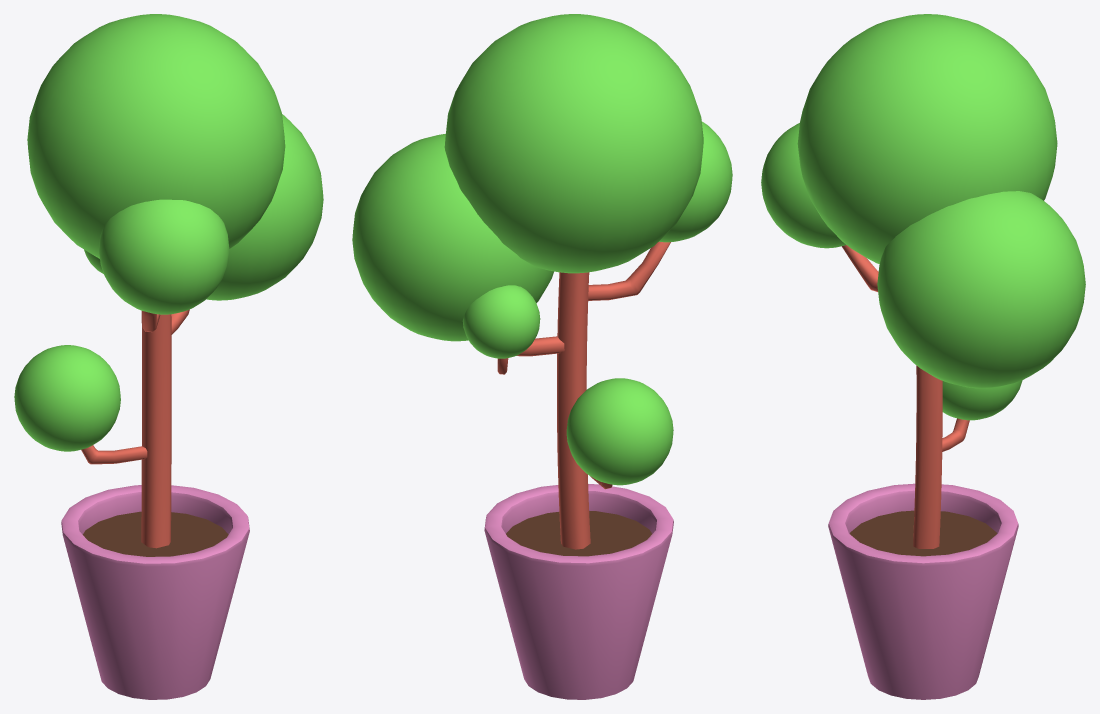
The model's file is Tree.fbx.
3 views of the same model, side by side, from view 1: azimuth 30°, elevation 25°; view 2: azimuth 150°, elevation 25°; view 3: azimuth 270°, elevation 25° (orthographic).
Parts seen in each view (by area): view 1: birch_tree_SC_free, Cylinder; view 2: birch_tree_SC_free, Cylinder; view 3: birch_tree_SC_free, Cylinder.
Part boxes in pixels (x1,y1,x2,y2): birch_tree_SC_free: (14,14,323,548); Cylinder: (61,485,249,699); birch_tree_SC_free: (352,14,732,549); Cylinder: (484,484,673,699); birch_tree_SC_free: (761,14,1085,548); Cylinder: (828,483,1018,699).
Bounding box in the file's own units: 106 × 224 × 101.
